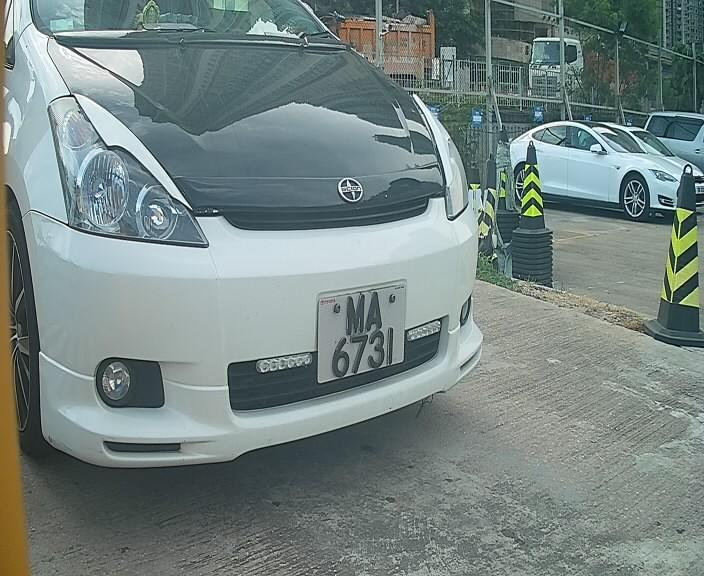License Plate: (299, 273, 419, 397)
